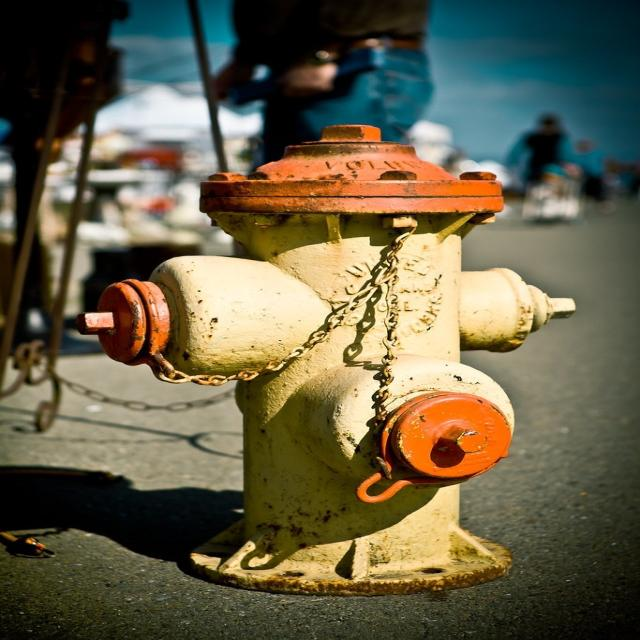fire_hydrant: (89, 94, 562, 614)
